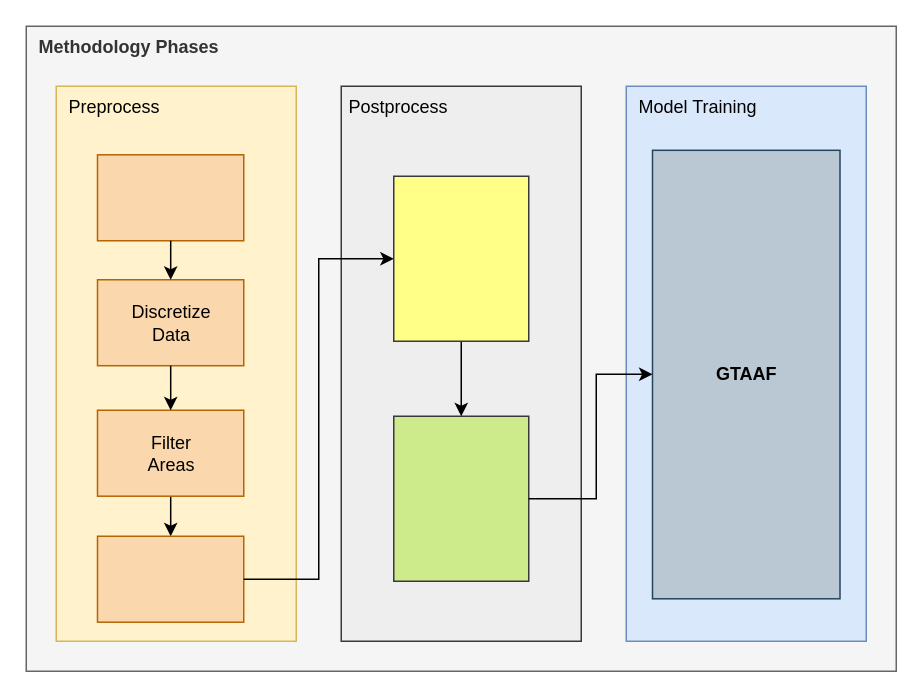
Image size: 923x698. Some labels were removed from this diagram. Each missing label, with the centre of its shape:
"Clean Data" goes at point (170, 197).
"Genetic Algorithm" goes at point (460, 258).
"Matrix Construction" goes at point (460, 498).
"Resampling" goes at point (170, 578).
